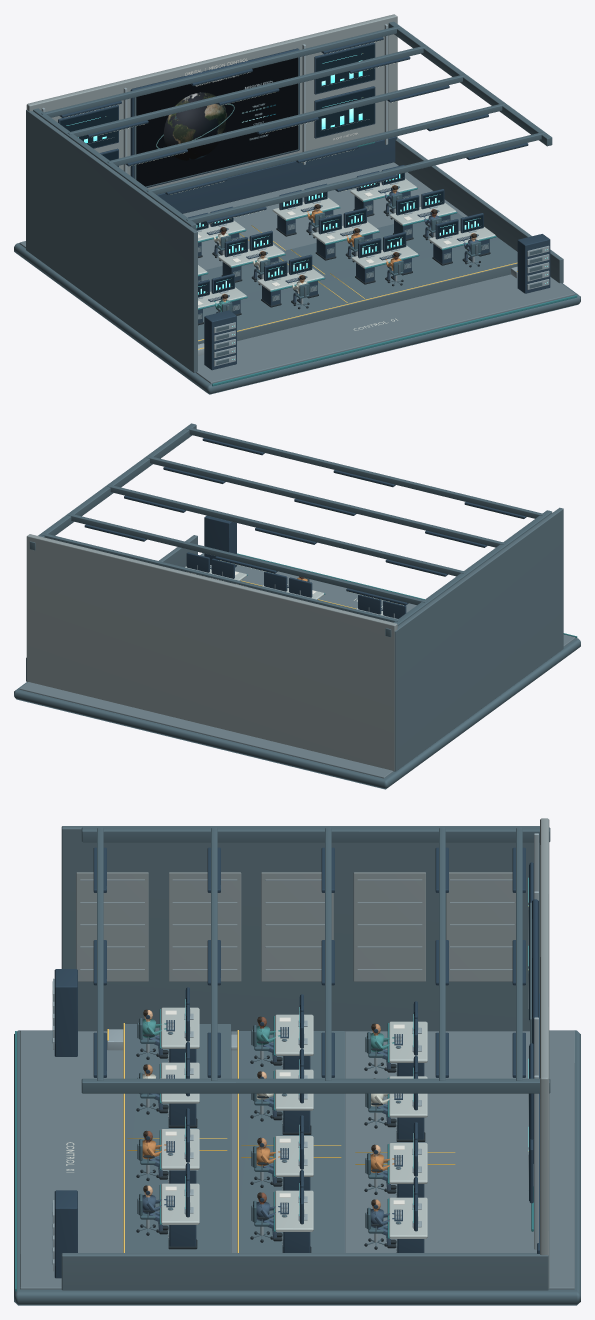
Rendered from mission-control.glb.
3 renders of one model, top to bottom at view 1: azimuth 30°, elevation 25°; view 2: azimuth 150°, elevation 25°; view 3: azimuth 270°, elevation 25°, orthographic. The views are drawn at different scales.
Visible parts, largest first — view 1: ControlRoom_Panel, ControlRoom_DarkSteel, ControlRoom_Navy, ControlRoom_Floor, MainScreen, ControlRoom_Wall, ControlRoom_DisplayDark, ControlRoom_DeskTop, ControlRoom_Steel, ControlRoom_Teal.001, ControlRoom_Seat, ControlRoom_ScreenGlow.001 (+4 smaller); view 2: ControlRoom_Wall, ControlRoom_Panel, ControlRoom_DarkSteel, ControlRoom_Navy, ControlRoom_Floor; view 3: ControlRoom_Panel, ControlRoom_Floor, ControlRoom_Wall, ControlRoom_DarkSteel, ControlRoom_Navy, ControlRoom_DeskTop, ControlRoom_Steel, ControlRoom_Rubber, ControlRoom_OperatorNavy, ControlRoom_Seat, ControlRoom_Teal.001, ControlRoom_Yellow (+4 smaller).
Part boxes in pixels (<box>): ControlRoom_Panel: <box>26,109,563,372</box>; ControlRoom_DarkSteel: <box>14,21,580,394</box>; ControlRoom_Navy: <box>58,37,550,370</box>; ControlRoom_Floor: <box>19,162,575,383</box>; MainScreen: <box>136,57,298,186</box>; ControlRoom_Wall: <box>26,14,397,213</box>; ControlRoom_DisplayDark: <box>60,44,483,296</box>; ControlRoom_DeskTop: <box>198,178,495,308</box>; ControlRoom_Steel: <box>41,24,549,366</box>; ControlRoom_Teal.001: <box>198,141,577,386</box>; ControlRoom_Seat: <box>216,193,481,312</box>; ControlRoom_ScreenGlow.001: <box>66,55,547,359</box>; ControlRoom_Wall: <box>26,534,397,771</box>; ControlRoom_Panel: <box>26,507,563,771</box>; ControlRoom_DarkSteel: <box>14,423,580,789</box>; ControlRoom_Navy: <box>84,438,526,618</box>; ControlRoom_Floor: <box>19,553,575,778</box>; ControlRoom_Panel: <box>61,826,548,1290</box>; ControlRoom_Floor: <box>20,1030,574,1289</box>; ControlRoom_Wall: <box>76,818,549,1288</box>; ControlRoom_DarkSteel: <box>14,827,580,1305</box>; ControlRoom_Navy: <box>54,847,539,1278</box>; ControlRoom_DeskTop: <box>161,1007,427,1238</box>; ControlRoom_Steel: <box>53,833,538,1271</box>; ControlRoom_Rubber: <box>136,1034,425,1252</box>; ControlRoom_OperatorNavy: <box>142,1035,394,1244</box>; ControlRoom_Seat: <box>139,1018,383,1233</box>; ControlRoom_Teal.001: <box>15,1009,533,1291</box>; ControlRoom_Yellow: <box>107,1023,455,1252</box>.
Size of the model in its own units: 20.3 by 8.14 by 18.4.
Materials: 27 (1 with a texture image).
